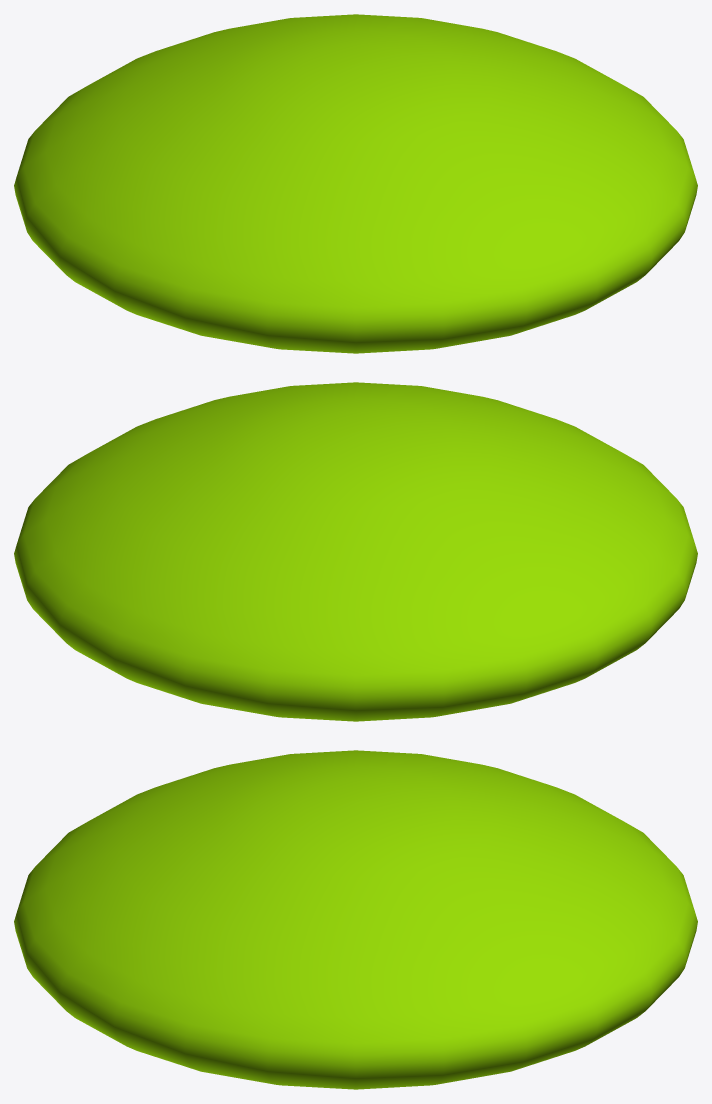
File: HPE50cm.glb
The picture shows the model from 3 angles, top to bottom: view 1: azimuth 30°, elevation 25°; view 2: azimuth 150°, elevation 25°; view 3: azimuth 270°, elevation 25°; orthographic projection.
Visible parts, largest first — view 1: HPE50cm; view 2: HPE50cm; view 3: HPE50cm.
Boxes of the visible parts, x1,y1,x2,y2 form: HPE50cm: (14,14,697,353); HPE50cm: (14,382,697,721); HPE50cm: (14,750,697,1089).
Bounding box in the file's own units: 1.5 × 0.4993 × 1.5.
